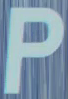Parking: (6, 4, 62, 93)
